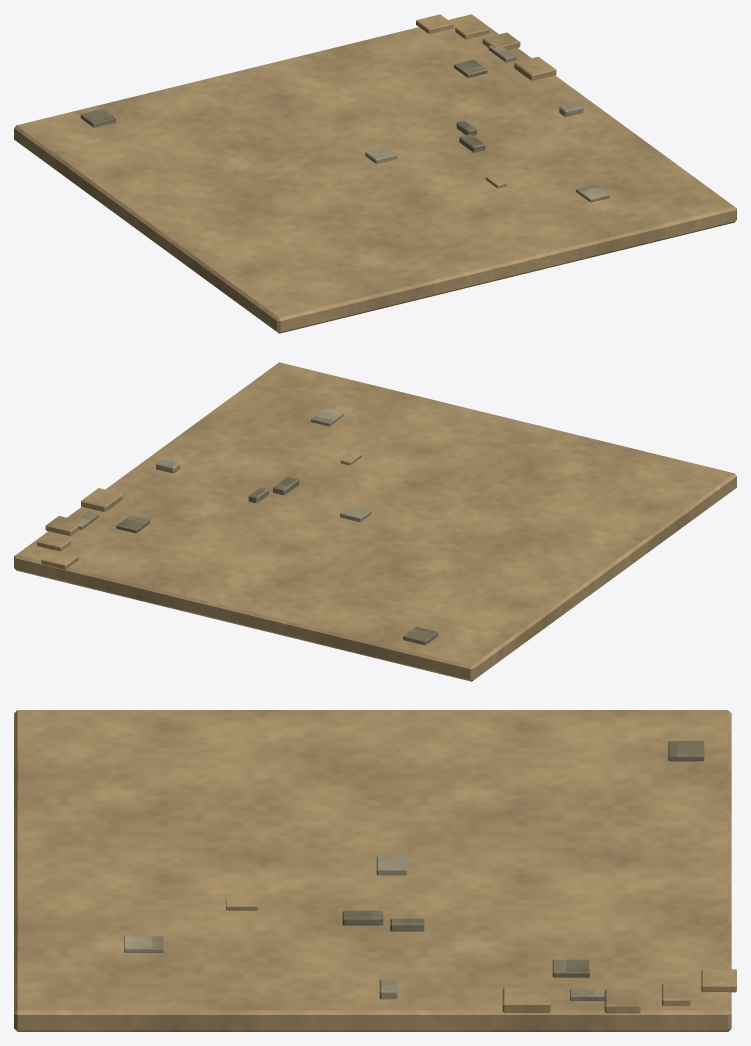
Rendered from SM_Pilot_WornPath2m.fbx.
3 renders of one model, top to bottom at view 1: azimuth 30°, elevation 25°; view 2: azimuth 150°, elevation 25°; view 3: azimuth 270°, elevation 25°, orthographic. The views are drawn at different scales.
Visible parts, largest first — view 1: SM_Pilot_WornPath2m; view 2: SM_Pilot_WornPath2m; view 3: SM_Pilot_WornPath2m.
Part boxes in pixels (<box>): SM_Pilot_WornPath2m: <box>14,14,736,333</box>; SM_Pilot_WornPath2m: <box>14,362,736,681</box>; SM_Pilot_WornPath2m: <box>14,710,736,1031</box>.
Bounding box in the file's own units: 200 × 201 × 9.2.
3 materials, 3 textured.
